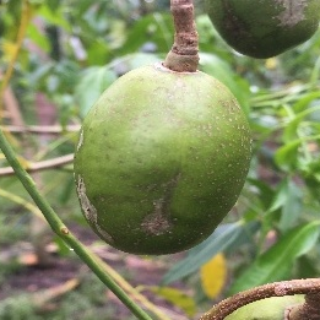coc: (72, 62, 254, 257)
